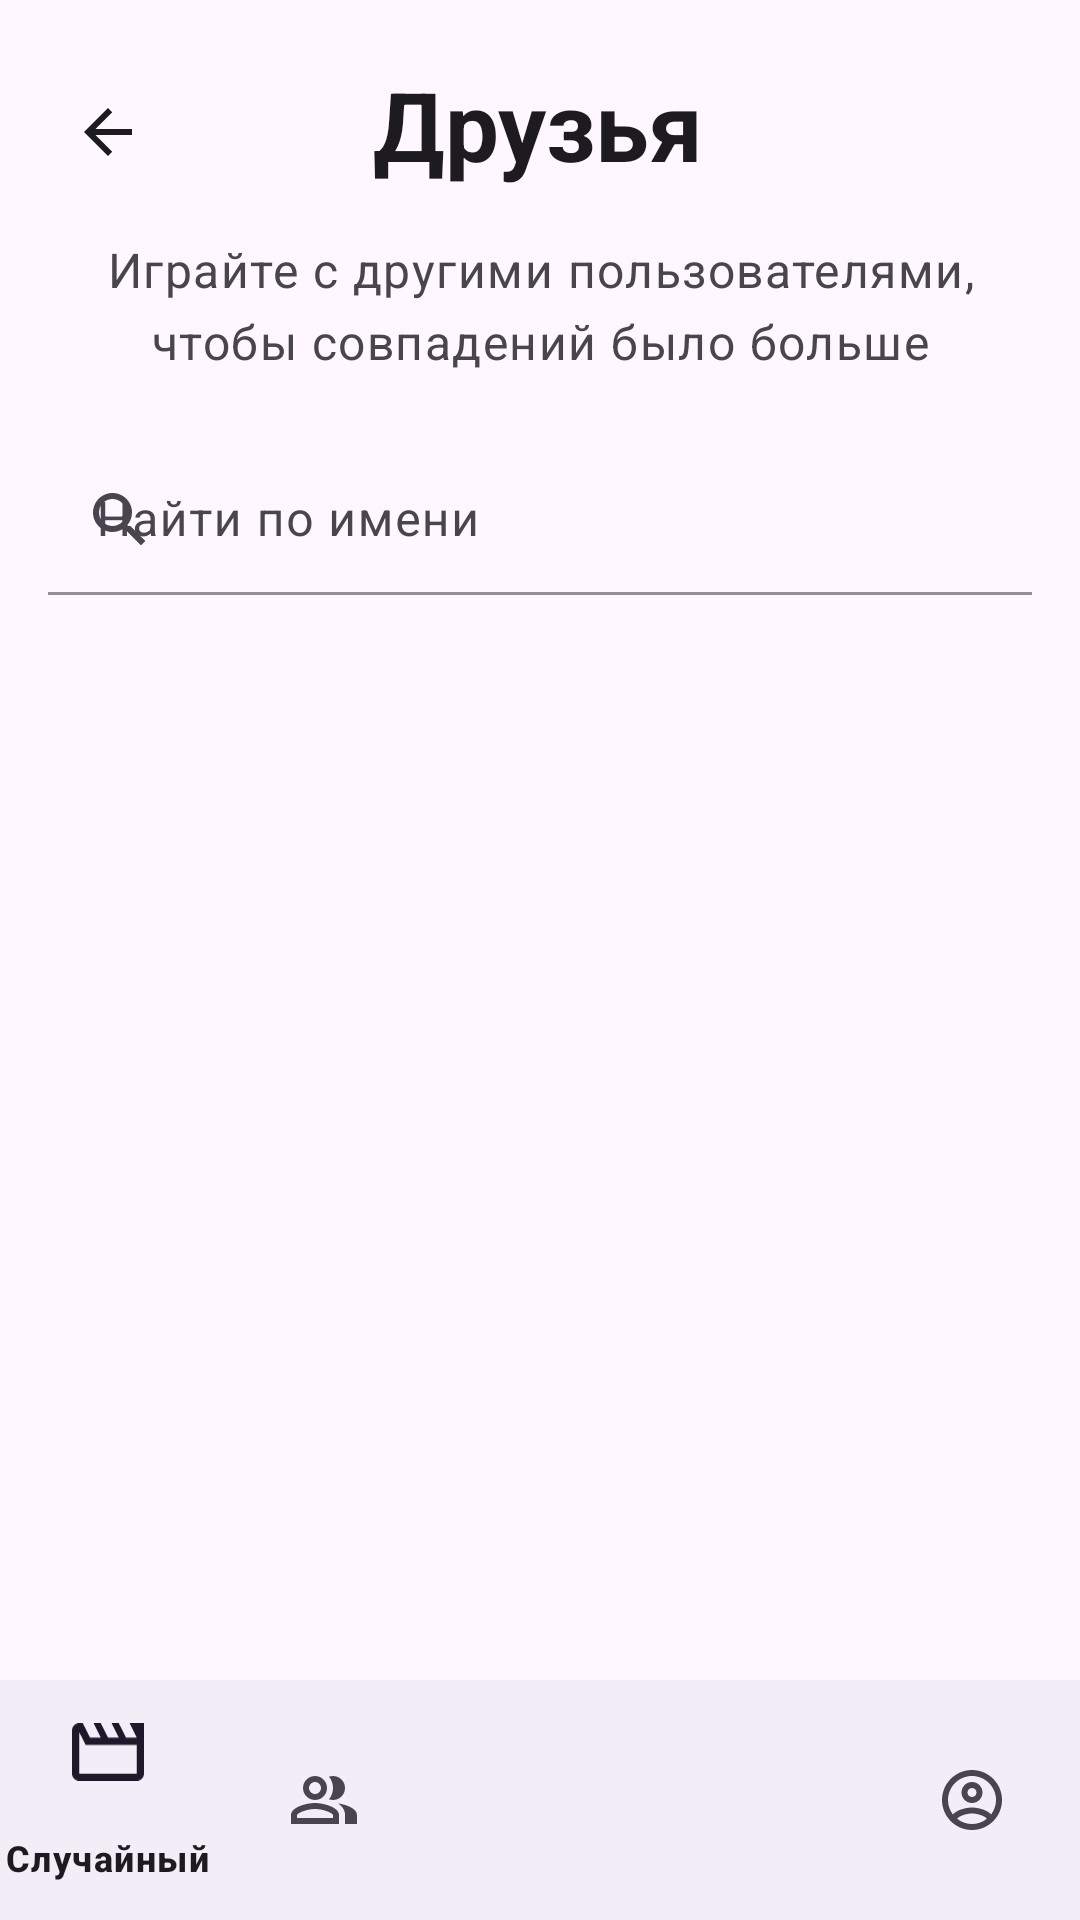

Named icons in this screenshot (1080 x 1920) and their centers, point (x, y):
Назад: point (108, 132)
